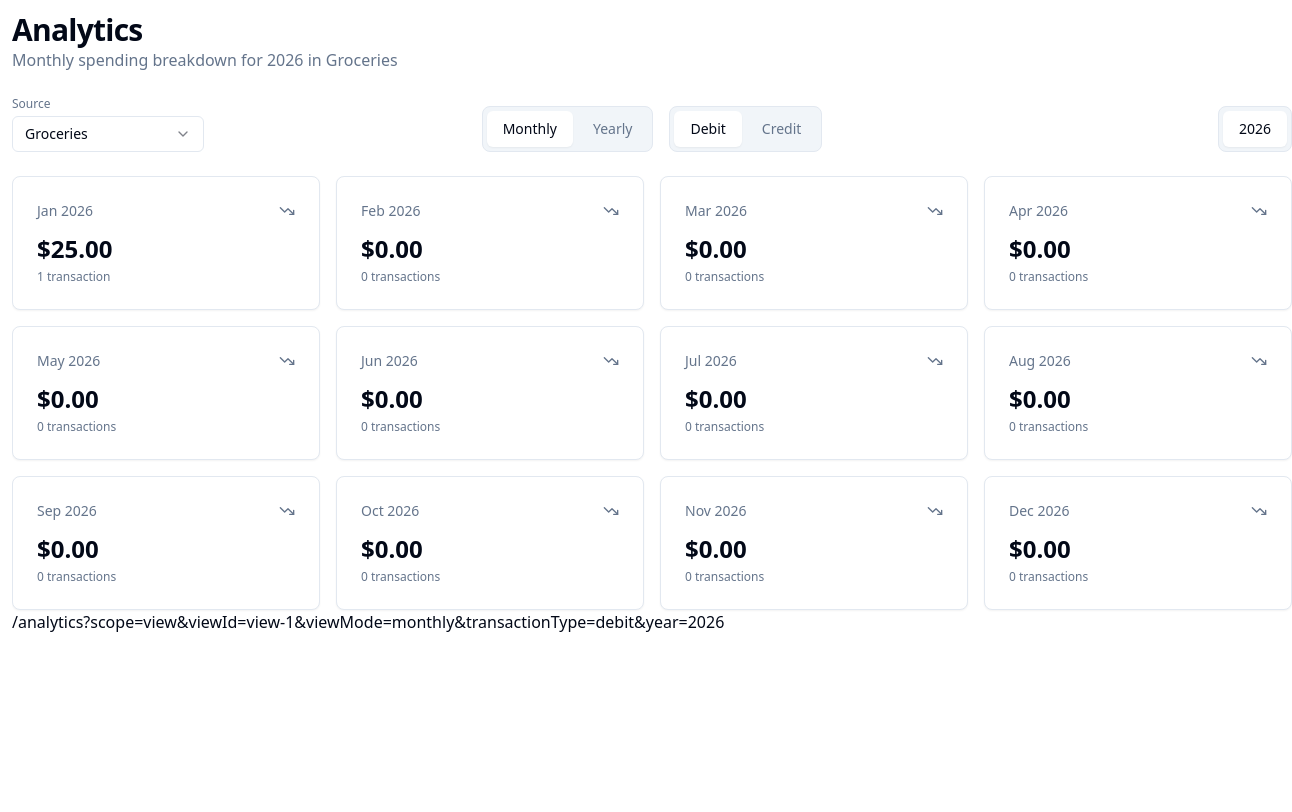
Test case: AnalyticsPage source resolution › removes the view ID when all transactions is selected
Click the button named "Source" at (108, 134), box [12,116,204,152]
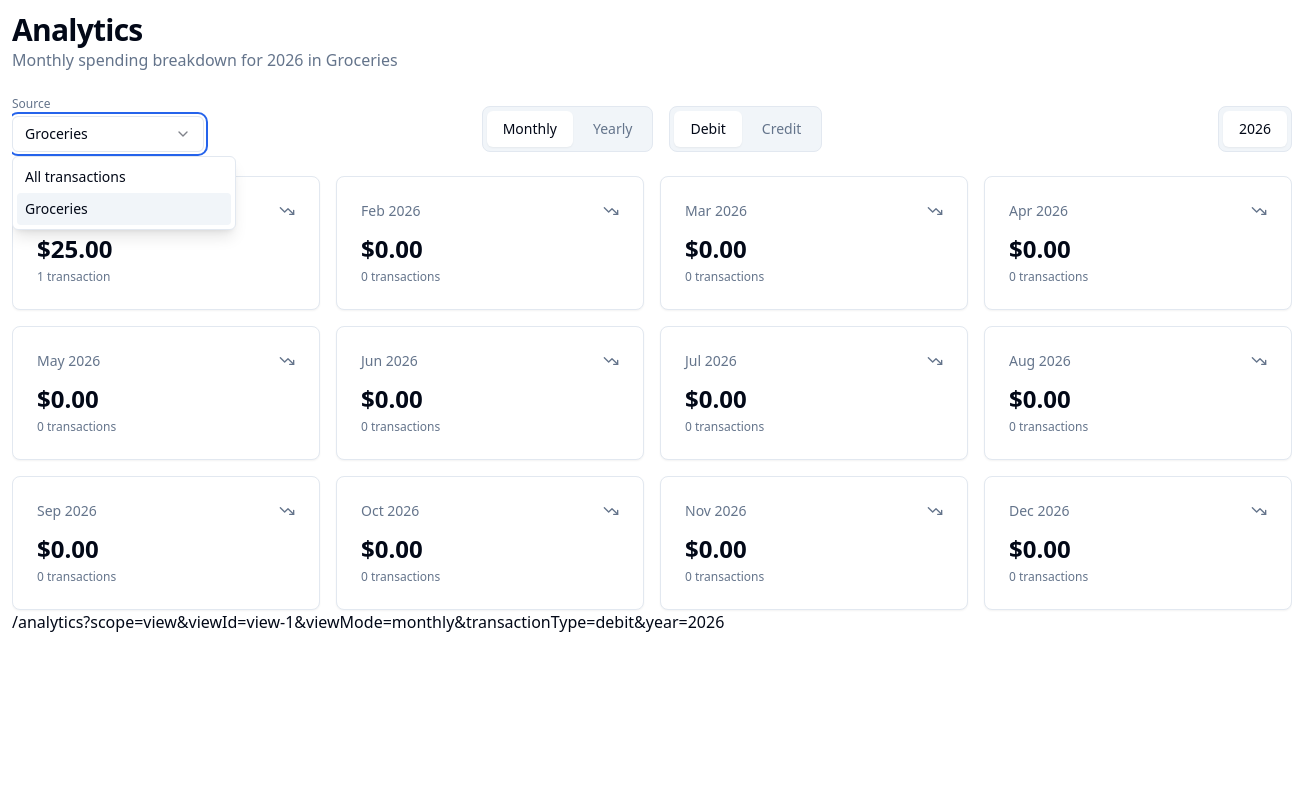
Click the button "All transactions" at (124, 177), box [17,161,231,193]
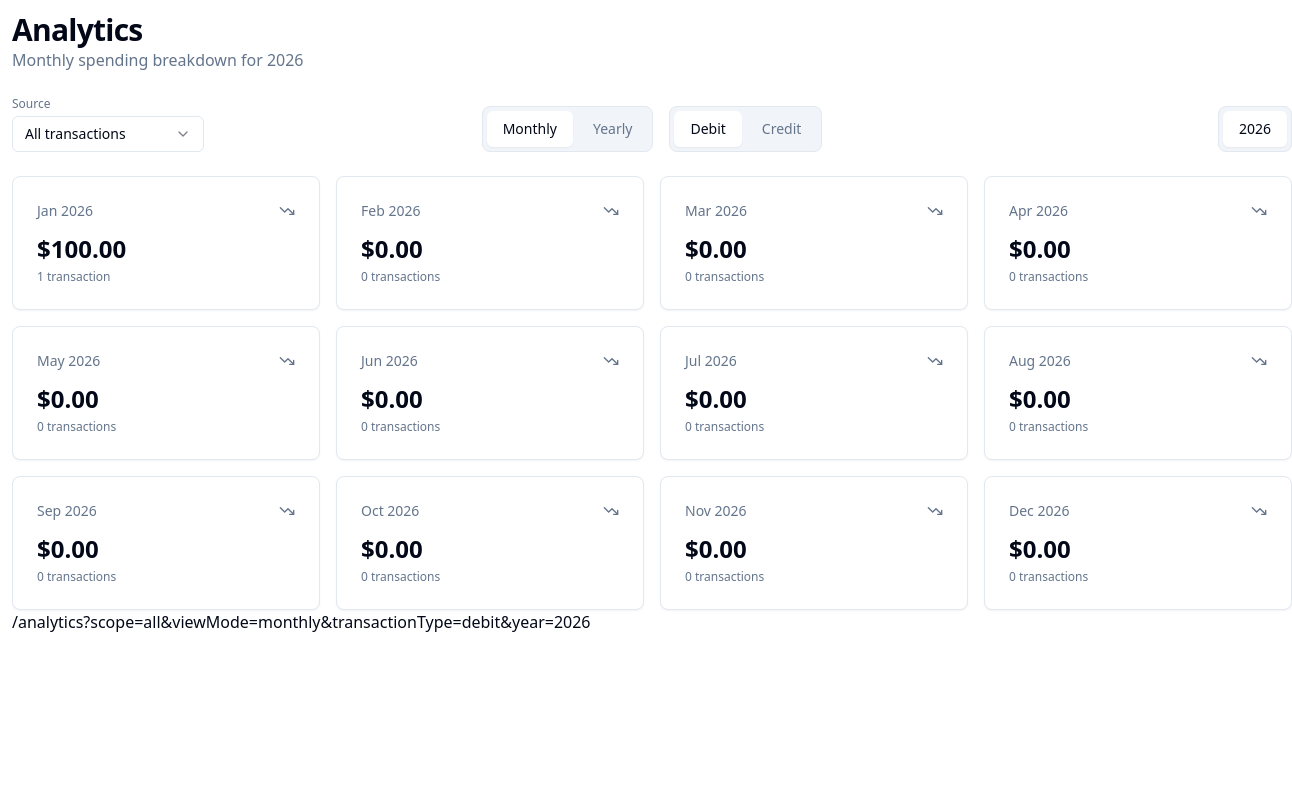
Now the text with test id "location" reads "/analytics?scope=all&viewMode=monthly&transactionType=debit&year=2026", box [12,611,590,633]
